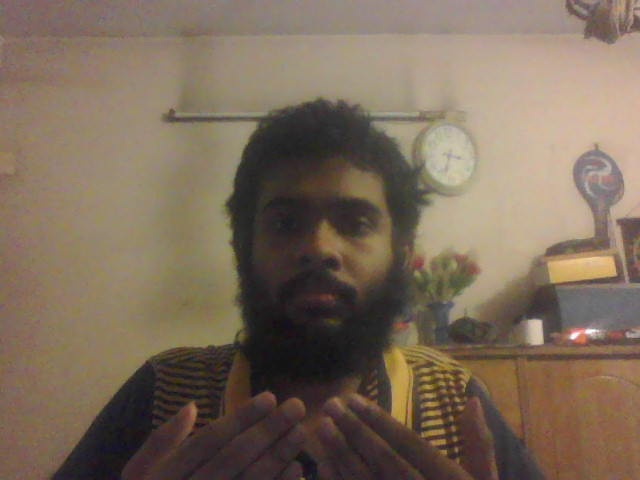Thank You: (133, 389, 534, 480)
